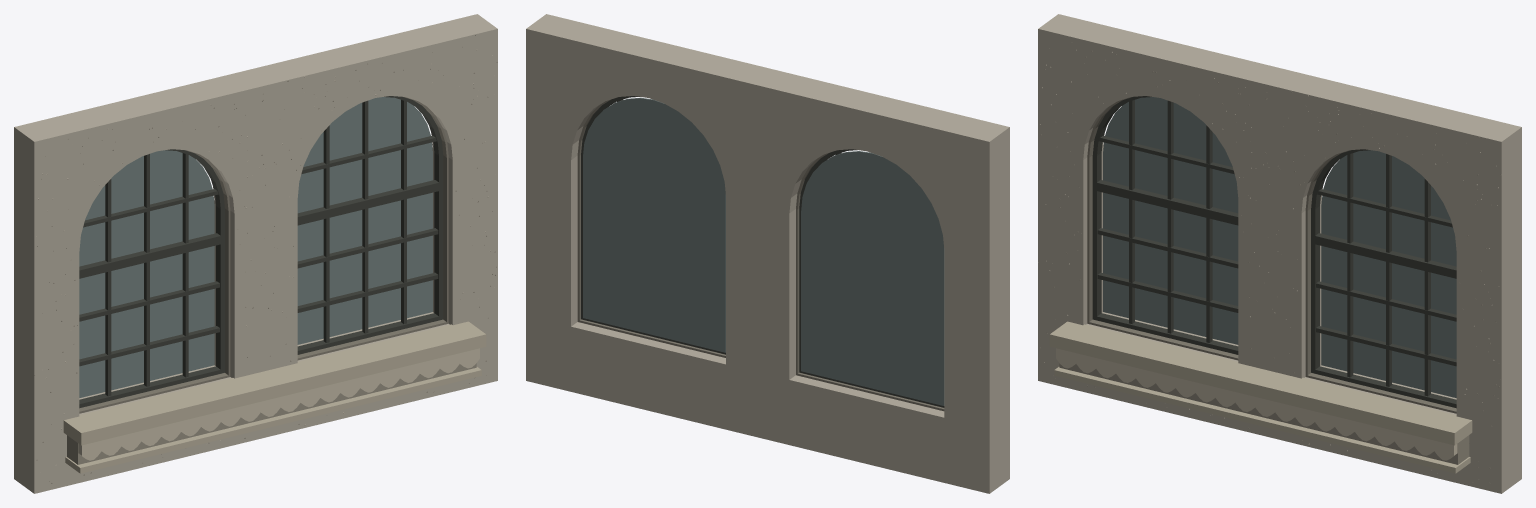
File: changning-anding-no16-arched-steel-windows-lod.glb
The picture shows the model from 3 angles, left to right: view 1: azimuth 30°, elevation 25°; view 2: azimuth 150°, elevation 25°; view 3: azimuth 330°, elevation 25°; orthographic projection.
Visible parts, largest first — view 1: 安定坊16号双券钢窗与弧饰窗台; view 2: 安定坊16号双券钢窗与弧饰窗台; view 3: 安定坊16号双券钢窗与弧饰窗台.
Boxes of the visible parts, box(x1,y1,x2,y2) form: 安定坊16号双券钢窗与弧饰窗台: box(14, 14, 497, 493); 安定坊16号双券钢窗与弧饰窗台: box(526, 14, 1009, 493); 安定坊16号双券钢窗与弧饰窗台: box(1038, 14, 1521, 493).
Bounding box in the file's own units: 2.9 × 2.11 × 0.411.
